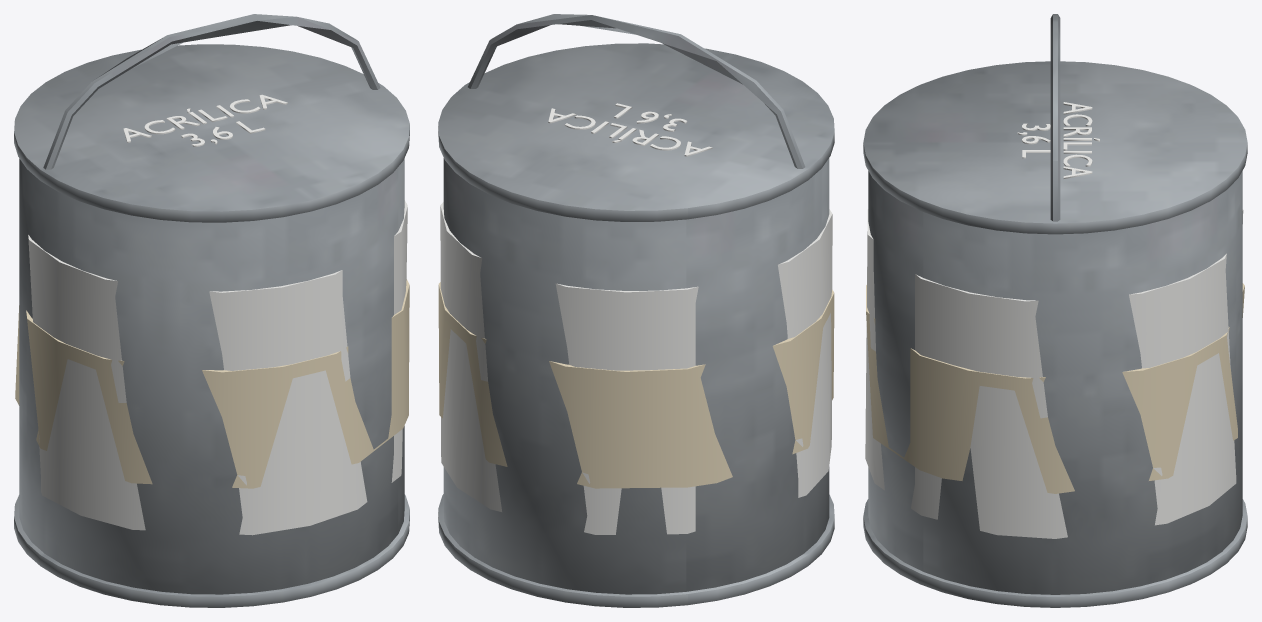
File: PIN-TIN-002_lod1.glb
The picture shows the model from 3 angles, left to right: view 1: azimuth 30°, elevation 25°; view 2: azimuth 150°, elevation 25°; view 3: azimuth 270°, elevation 25°; orthographic projection. The views are drawn at different scales.
Parts seen in each view (by area): view 1: PIN-TIN-002_lata, PIN-TIN-002_aro, PIN-TIN-002_rotulo, PIN-TIN-002_amostra, PIN-TIN-002_aro2, PIN-TIN-002_alca, PIN-TIN-002_texto; view 2: PIN-TIN-002_lata, PIN-TIN-002_aro, PIN-TIN-002_rotulo, PIN-TIN-002_amostra, PIN-TIN-002_aro2, PIN-TIN-002_alca, PIN-TIN-002_texto; view 3: PIN-TIN-002_lata, PIN-TIN-002_aro, PIN-TIN-002_rotulo, PIN-TIN-002_amostra, PIN-TIN-002_aro2, PIN-TIN-002_alca, PIN-TIN-002_texto.
Boxes of the visible parts, x1,y1,x2,y2 form: PIN-TIN-002_lata: (19, 158, 404, 594); PIN-TIN-002_aro: (14, 44, 409, 222); PIN-TIN-002_rotulo: (28, 200, 407, 535); PIN-TIN-002_amostra: (15, 279, 409, 488); PIN-TIN-002_aro2: (14, 494, 409, 607); PIN-TIN-002_alca: (43, 14, 380, 169); PIN-TIN-002_texto: (123, 94, 287, 146); PIN-TIN-002_lata: (443, 158, 829, 594); PIN-TIN-002_aro: (438, 43, 834, 221); PIN-TIN-002_rotulo: (440, 202, 832, 534); PIN-TIN-002_amostra: (438, 282, 834, 488); PIN-TIN-002_aro2: (438, 494, 834, 607); PIN-TIN-002_alca: (468, 14, 805, 168); PIN-TIN-002_texto: (548, 103, 712, 156); PIN-TIN-002_lata: (868, 171, 1242, 594); PIN-TIN-002_aro: (863, 61, 1247, 234); PIN-TIN-002_rotulo: (865, 209, 1243, 538); PIN-TIN-002_amostra: (866, 283, 1244, 493); PIN-TIN-002_aro2: (863, 499, 1247, 607); PIN-TIN-002_alca: (1050, 14, 1060, 221); PIN-TIN-002_texto: (1017, 102, 1099, 178).
Size of the model in its own units: 0.1734 by 0.2411 by 0.1734.
4 materials, 1 textured.
